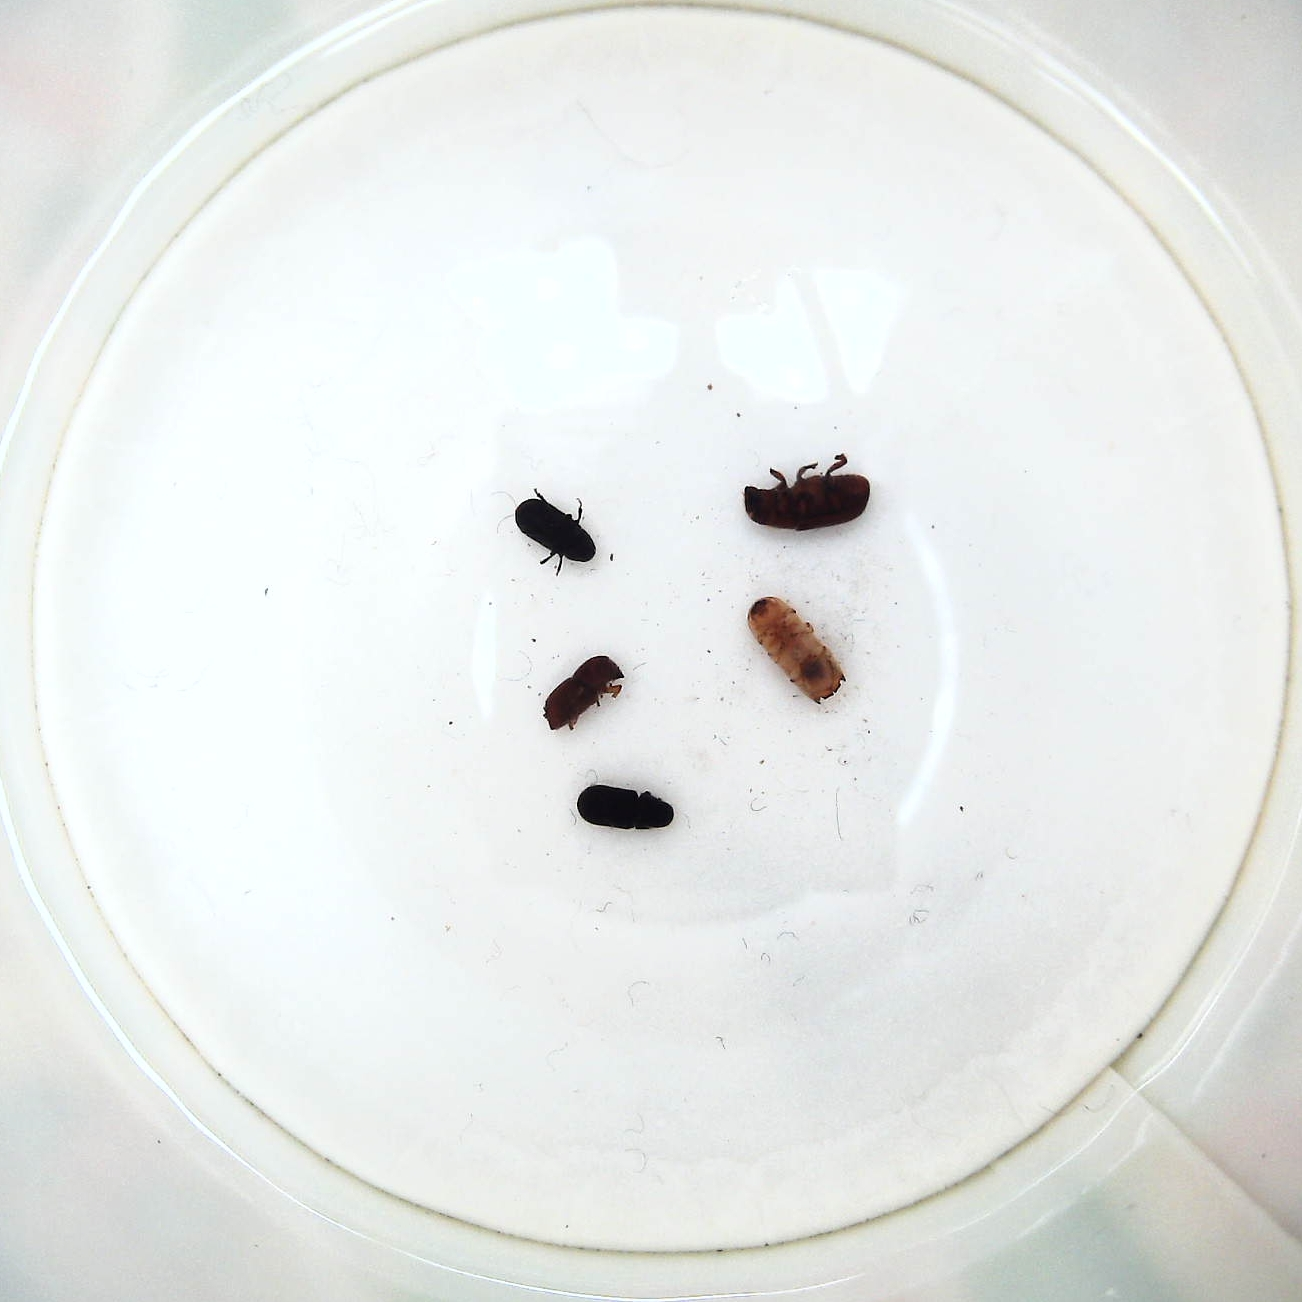Boerner: (744, 591, 847, 711)
Leconte: (740, 455, 875, 535)
armandi: (573, 777, 678, 835)
coleoptera: (514, 489, 600, 577)
linnaeus: (539, 652, 631, 738)
